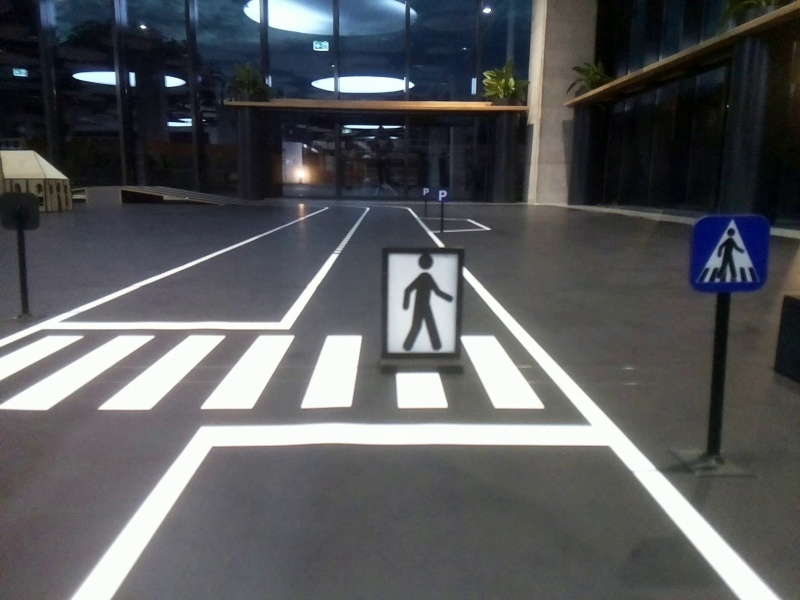Person: (392, 255, 453, 352)
